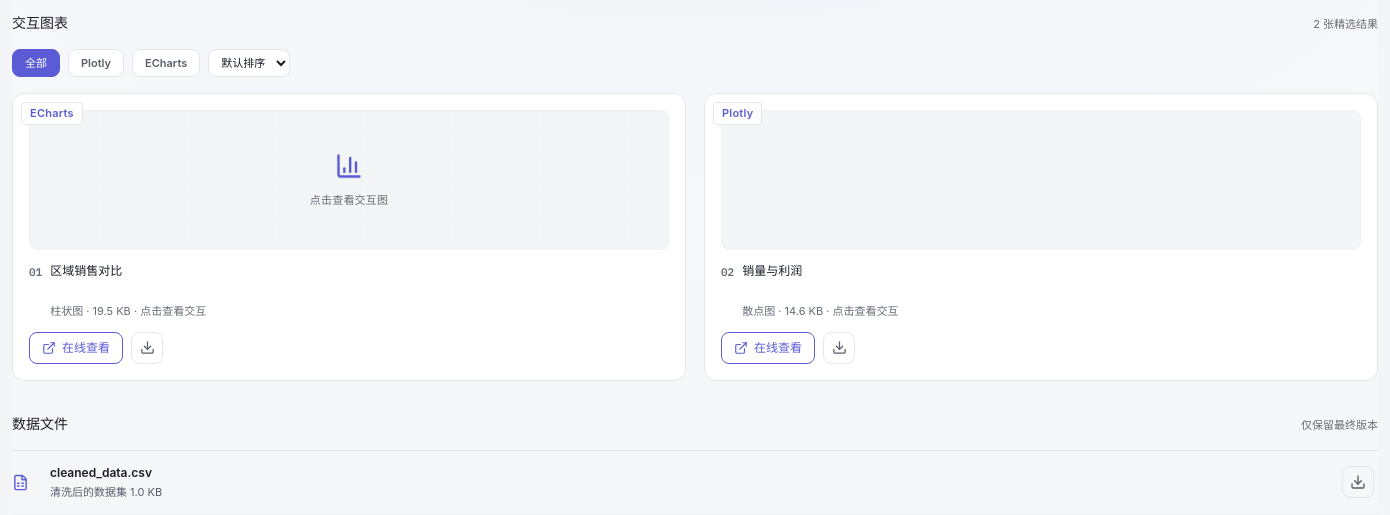
ArtifactCenter › filters charts by engine with aria-pressed state
The image size is (1390, 515).
点击 ECharts：只保留 ECharts 图，状态切换
Click the button "ECharts": click(166, 63) [132,49,200,77]
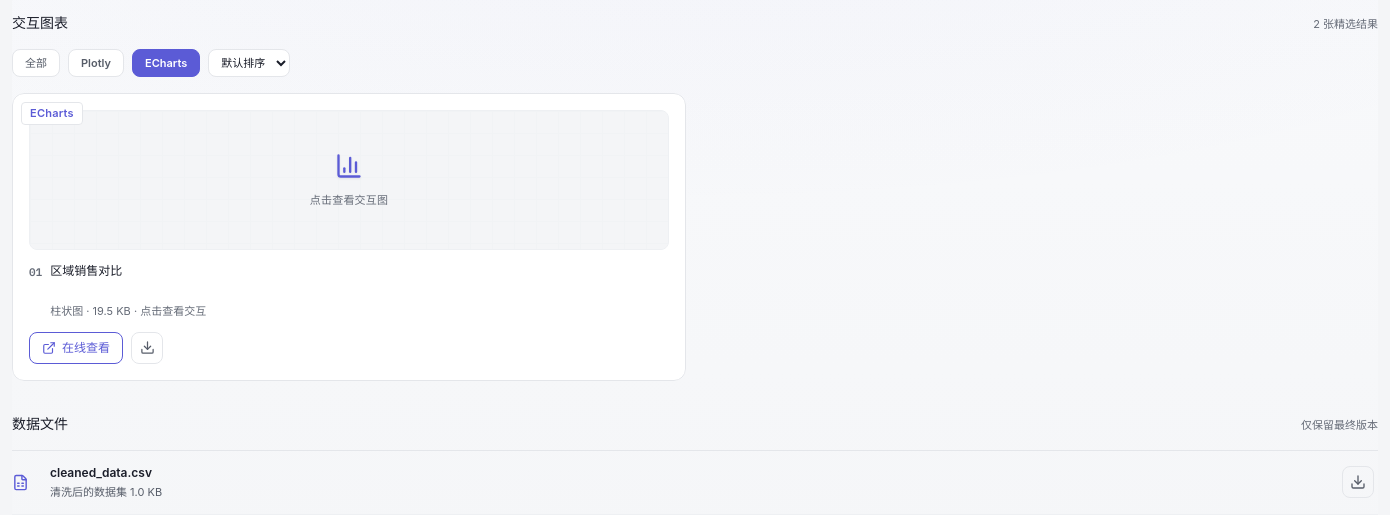
Expected: the text "区域销售对比" is shown, [50,263,122,278]
Expected: the text "销量与利润" is gone
Click the button "全部": click(36, 63) [12,49,60,77]
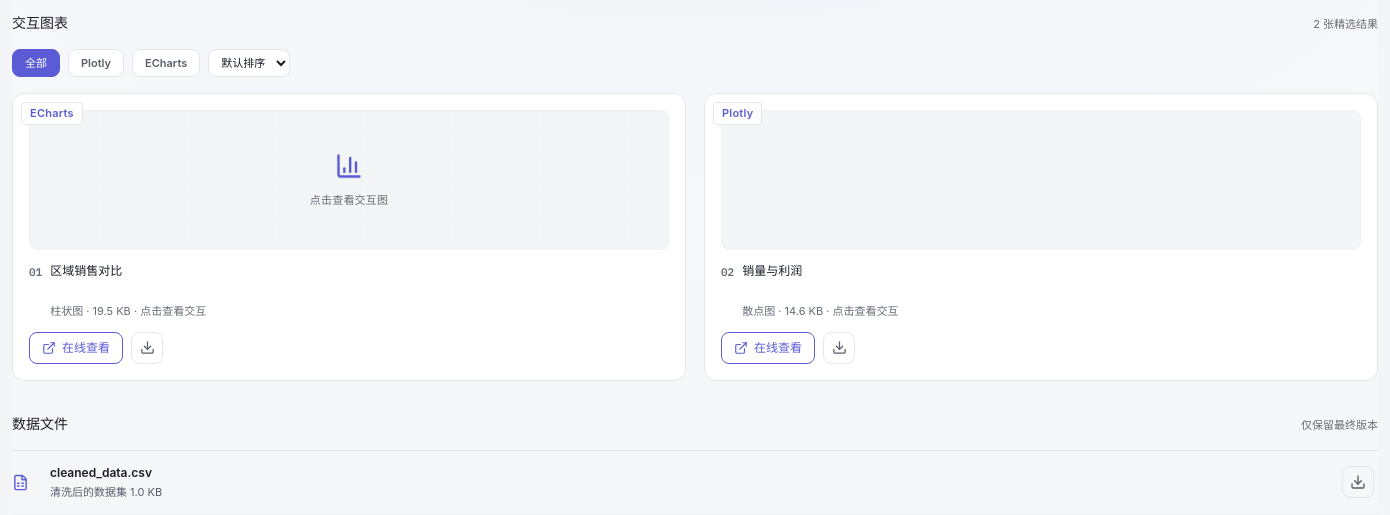
Expected: the text "销量与利润" is shown, [742,263,802,278]
